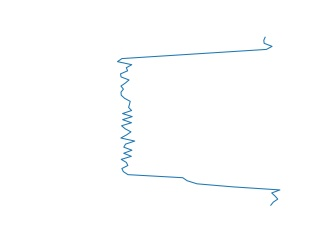distributaryChannelFill: (112, 37, 285, 208)
